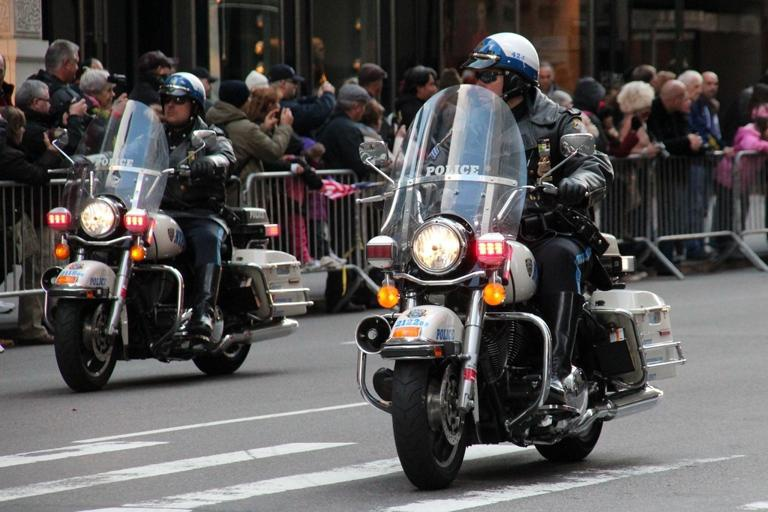non-vehicle: (355, 83, 686, 489), (41, 99, 313, 393)
